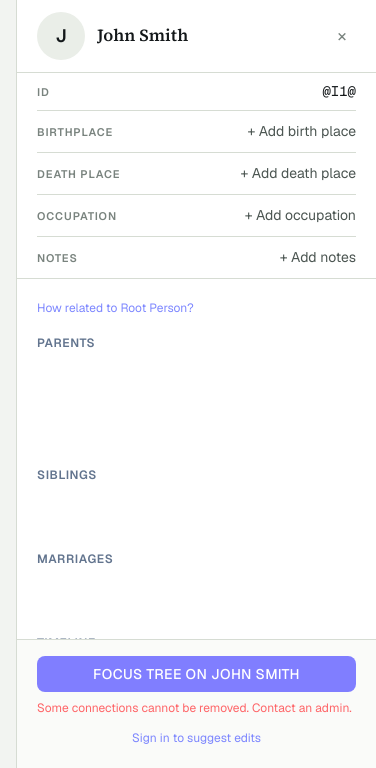
Test: PersonDrawer › Relationship calculator › fetches from the root to the selected person and displays the kinship label on click
Click the button with test id "person-drawer-relationship-button" at (115, 308), box [37, 300, 194, 316]
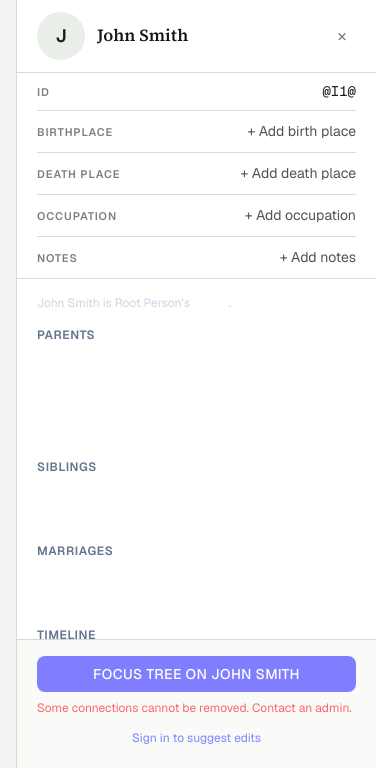
Expected: the element with test id "person-drawer-relationship-result" shows "father", [193, 295, 228, 311]
Expected: the button with test id "person-drawer-relationship-button" is gone
